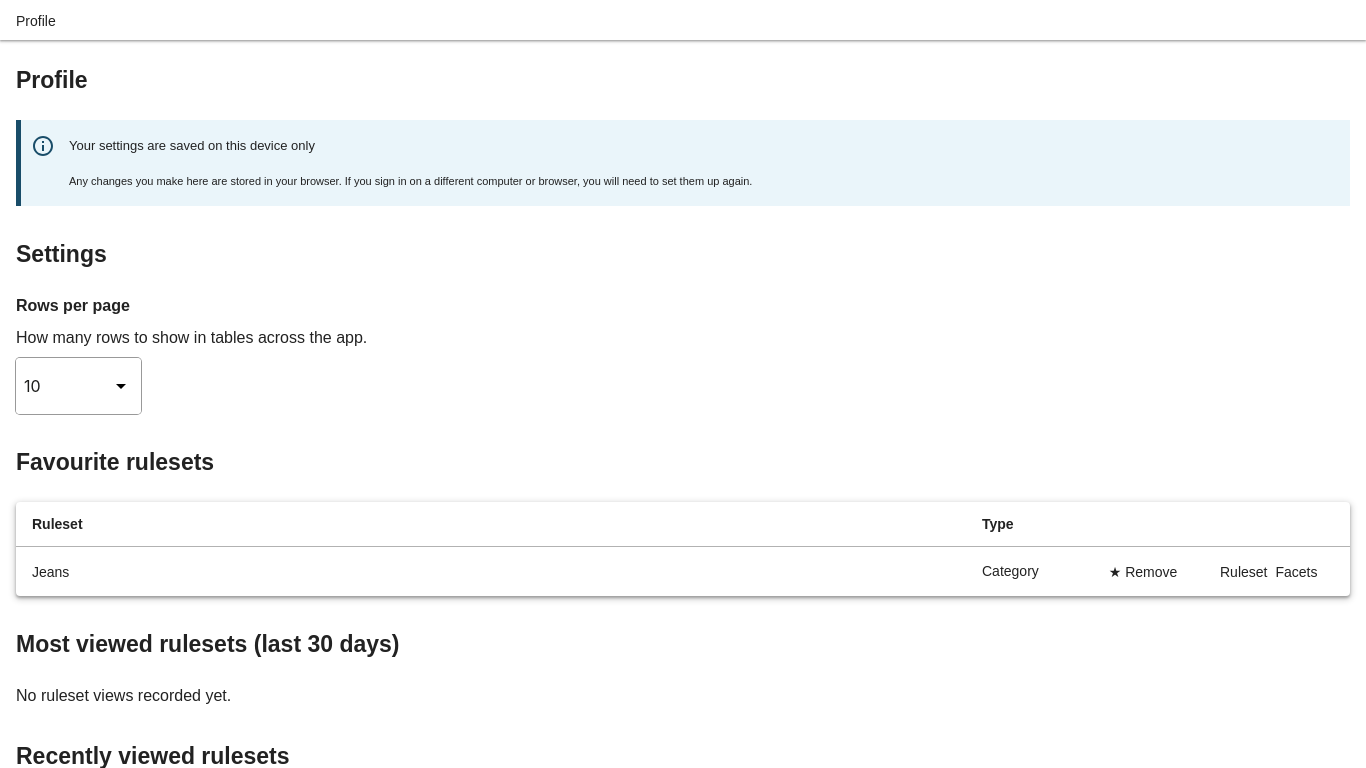
it: Profile page › favourite rulesets section › should remove a favourite when the remove button is clicked
Click the button with aria-label "Remove Jeans from favourites" at (1143, 571), box x1=1098 y1=559 x2=1188 y2=583
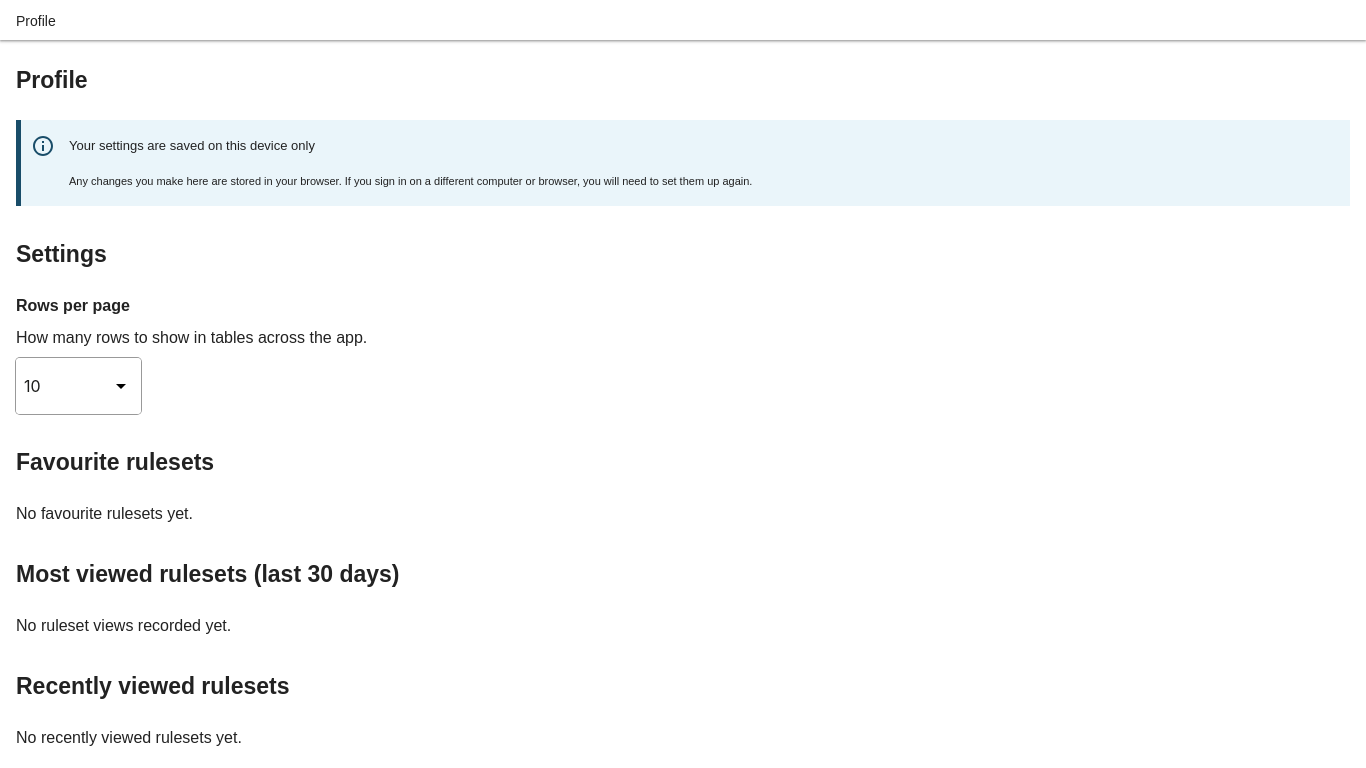
Check: the text "No favourite rulesets yet." is shown, box x1=16 y1=505 x2=193 y2=522
